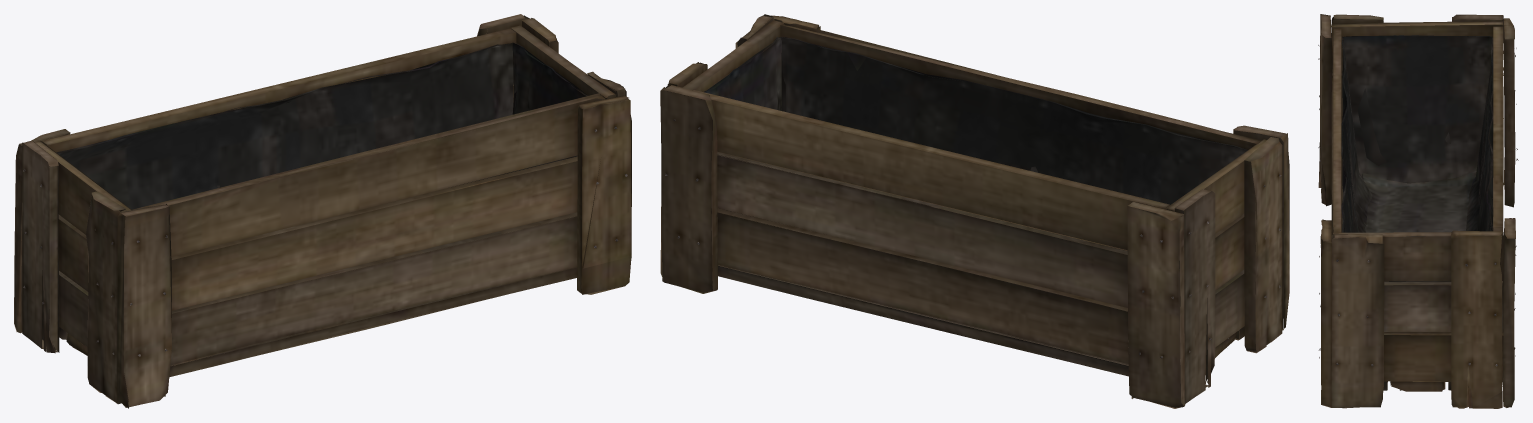
The model's file is ph_planter_box_02.glb.
3 renders of one model, left to right at view 1: azimuth 30°, elevation 25°; view 2: azimuth 150°, elevation 25°; view 3: azimuth 270°, elevation 25°, orthographic. The views are drawn at different scales.
Visible parts, largest first — view 1: planter_box_02; view 2: planter_box_02; view 3: planter_box_02.
Boxes of the visible parts, bbox=[...] form: planter_box_02: bbox=[14, 14, 631, 408]; planter_box_02: bbox=[660, 14, 1289, 408]; planter_box_02: bbox=[1318, 14, 1518, 408].
Size of the model in its own units: 1.26 by 0.4542 by 0.4727.
1 material, 1 textured.
